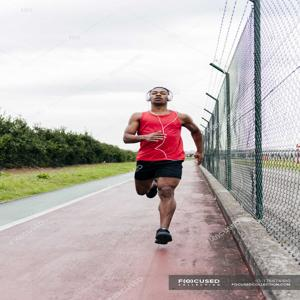Headphones: (144, 85, 174, 103)
